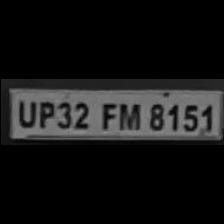1: (198, 100, 214, 132), (164, 101, 180, 131)
2: (70, 98, 92, 130)
3: (52, 98, 70, 128)
5: (178, 100, 198, 132)
8: (144, 99, 164, 130)
F: (96, 99, 116, 129)
M: (116, 99, 141, 129)
P: (34, 98, 54, 128)
U: (12, 97, 36, 127)
